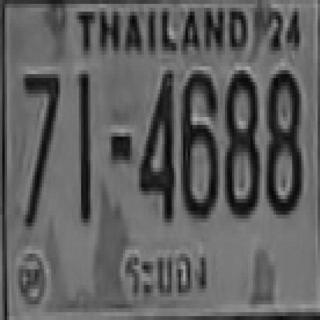N01: (72, 56, 109, 235)
N04: (138, 53, 187, 243)
N06: (179, 68, 224, 239)
N07: (19, 66, 62, 225)
N08: (258, 58, 304, 226), (220, 63, 264, 238)
P53: (103, 242, 225, 308)
